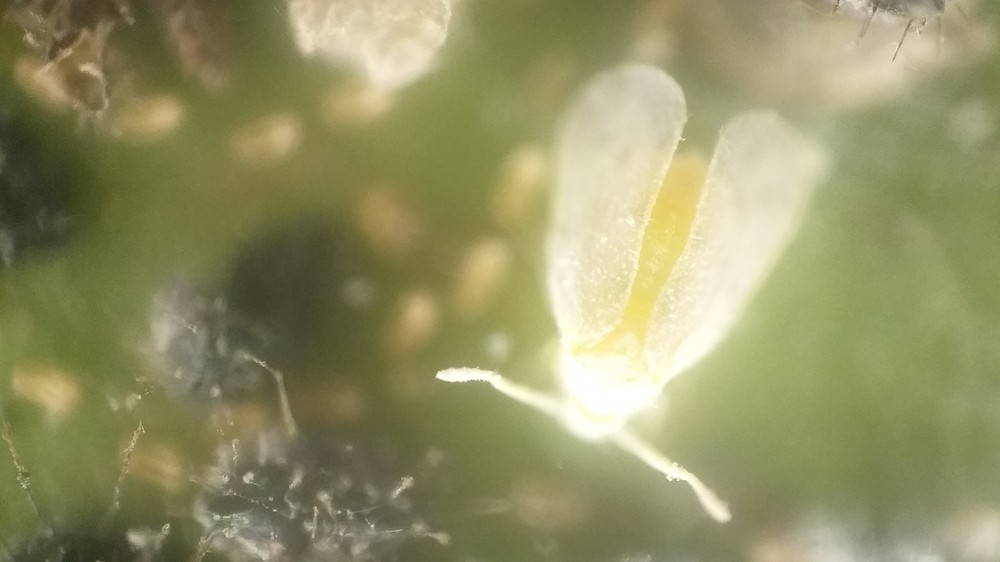Mosca Blanca: (429, 50, 847, 540)
